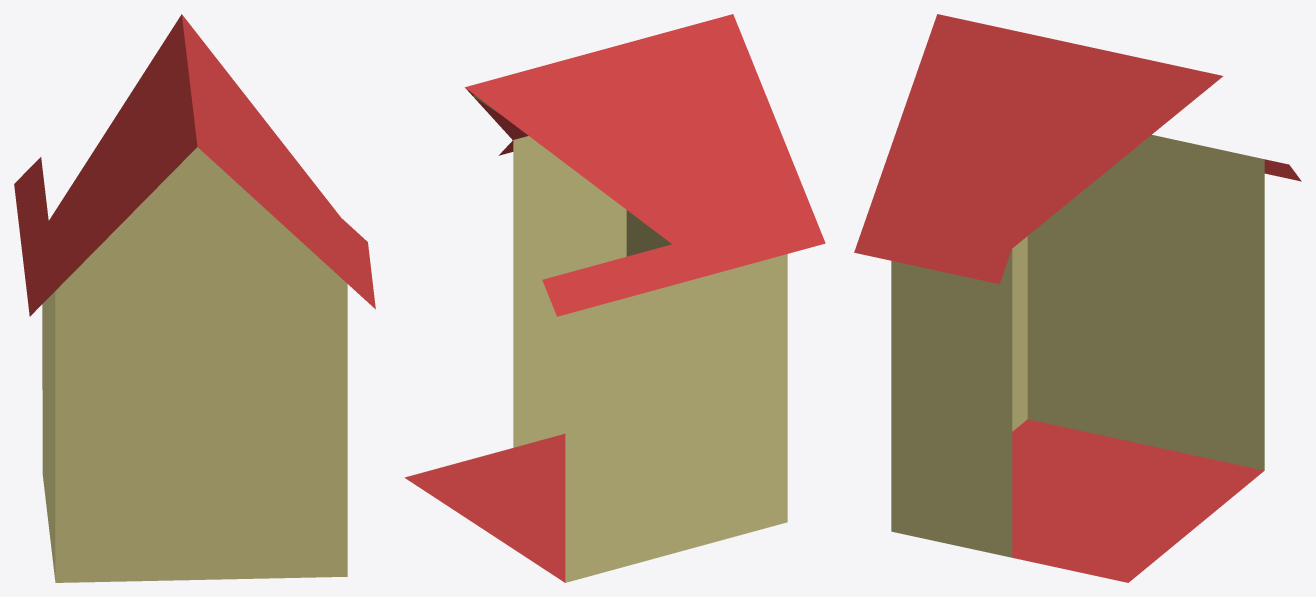
3 renders of one model, left to right at view 1: azimuth 30°, elevation 25°; view 2: azimuth 150°, elevation 25°; view 3: azimuth 270°, elevation 25°, orthographic. The views are drawn at different scales.
Size of the model in its own units: 11.51 by 12.15 by 13.59.
